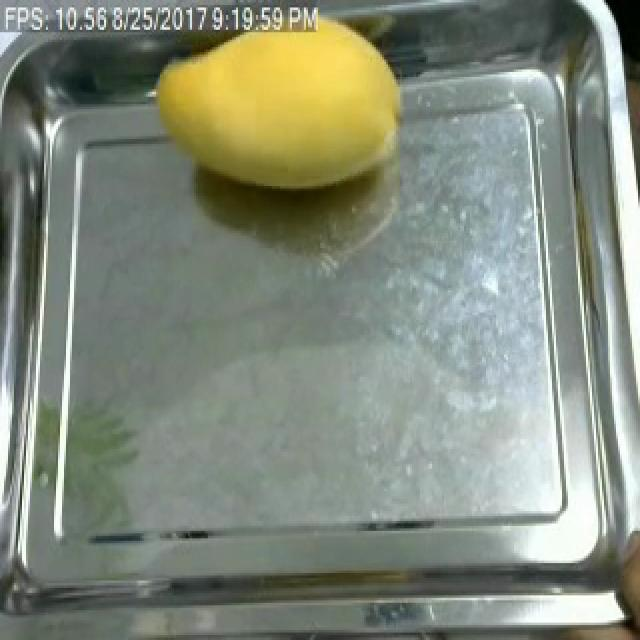fruit: (144, 8, 416, 208)
